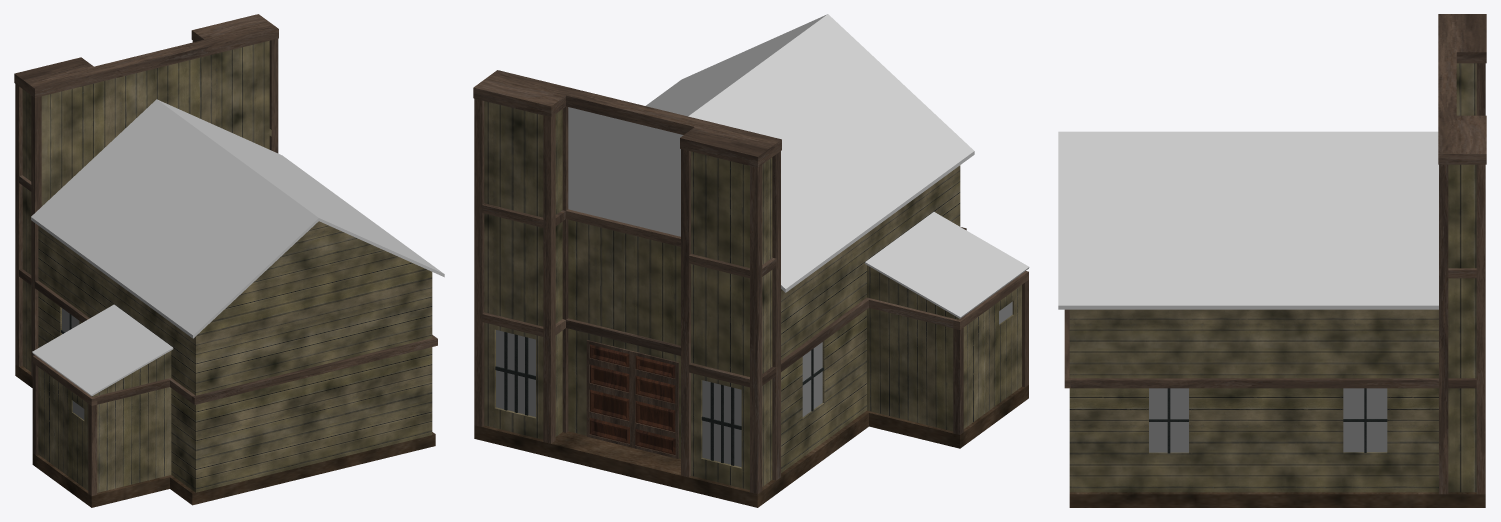
The picture shows the model from 3 angles, left to right: view 1: azimuth 30°, elevation 25°; view 2: azimuth 150°, elevation 25°; view 3: azimuth 270°, elevation 25°; orthographic projection. The views are drawn at different scales.
Visible parts, largest first — view 1: Base, Roofs, Woods; view 2: Base, Woods, Roofs, Logo; view 3: Base, Roofs, Woods.
Part boxes in pixels (<box>): Base: <box>15,40,435,507</box>; Roofs: <box>31,99,444,396</box>; Woods: <box>14,14,437,495</box>; Base: <box>474,101,1028,507</box>; Woods: <box>473,70,1028,494</box>; Roofs: <box>646,14,1029,318</box>; Logo: <box>568,107,683,236</box>; Base: <box>1069,63,1485,507</box>; Roofs: <box>1058,131,1438,309</box>; Woods: <box>1064,14,1486,494</box>.
Size of the model in its own units: 8.27 by 7.32 by 8.02.
